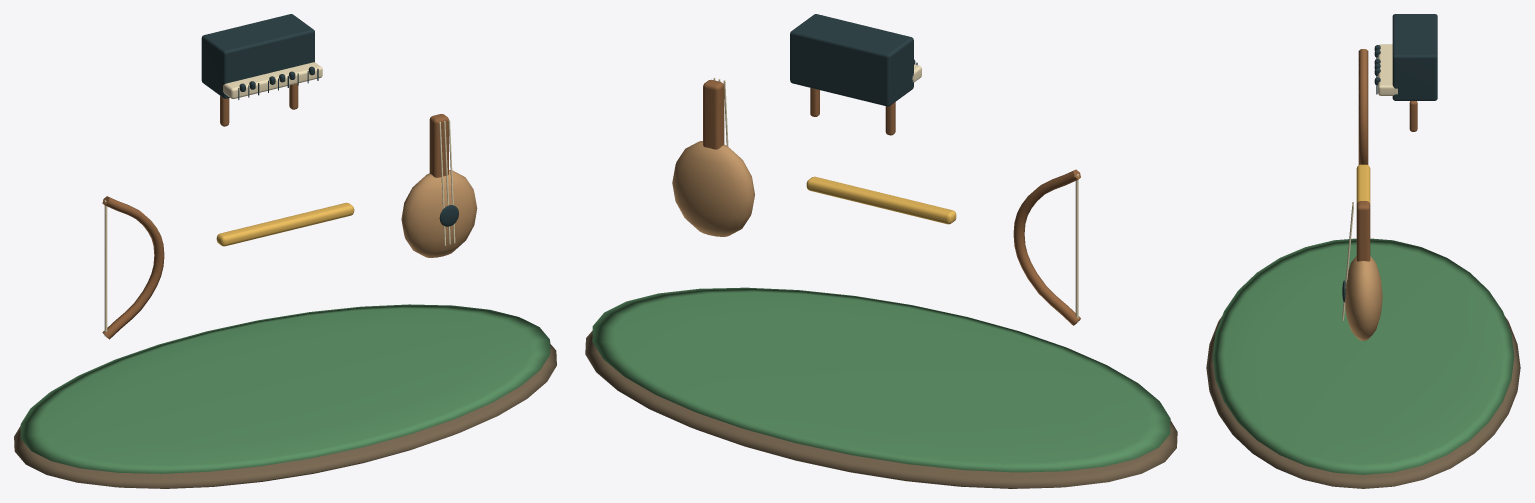
The model's file is complete-third-plucking-steel-piano.glb.
3 renders of one model, left to right at view 1: azimuth 30°, elevation 25°; view 2: azimuth 150°, elevation 25°; view 3: azimuth 270°, elevation 25°, orthographic. The views are drawn at different scales.
Parts seen in each view (by area): view 1: complete-third-plucking-steel-piano_surface_01, complete-third-plucking-steel-piano_surface_00, complete-third-plucking-steel-piano_surface_06, complete-third-plucking-steel-piano_surface_05, complete-third-plucking-steel-piano_surface_02, complete-third-plucking-steel-piano_surface_03, complete-third-plucking-steel-piano_surface_04; view 2: complete-third-plucking-steel-piano_surface_01, complete-third-plucking-steel-piano_surface_00, complete-third-plucking-steel-piano_surface_06, complete-third-plucking-steel-piano_surface_05, complete-third-plucking-steel-piano_surface_02, complete-third-plucking-steel-piano_surface_04, complete-third-plucking-steel-piano_surface_03; view 3: complete-third-plucking-steel-piano_surface_01, complete-third-plucking-steel-piano_surface_00, complete-third-plucking-steel-piano_surface_06, complete-third-plucking-steel-piano_surface_05, complete-third-plucking-steel-piano_surface_02, complete-third-plucking-steel-piano_surface_03, complete-third-plucking-steel-piano_surface_04.
Part boxes in pixels (x1,y1,x2,y2): complete-third-plucking-steel-piano_surface_01: (20,304,550,473); complete-third-plucking-steel-piano_surface_00: (14,344,556,488); complete-third-plucking-steel-piano_surface_06: (201,14,458,226); complete-third-plucking-steel-piano_surface_05: (401,170,477,257); complete-third-plucking-steel-piano_surface_02: (102,83,448,339); complete-third-plucking-steel-piano_surface_03: (104,62,455,336); complete-third-plucking-steel-piano_surface_04: (216,202,354,246); complete-third-plucking-steel-piano_surface_01: (592,287,1170,472); complete-third-plucking-steel-piano_surface_00: (585,330,1177,488); complete-third-plucking-steel-piano_surface_06: (790,14,917,106); complete-third-plucking-steel-piano_surface_05: (672,141,754,236); complete-third-plucking-steel-piano_surface_02: (703,79,1080,325); complete-third-plucking-steel-piano_surface_04: (806,176,956,224); complete-third-plucking-steel-piano_surface_03: (713,64,1078,322); complete-third-plucking-steel-piano_surface_01: (1212,238,1514,474); complete-third-plucking-steel-piano_surface_00: (1206,316,1520,488); complete-third-plucking-steel-piano_surface_06: (1342,14,1437,301); complete-third-plucking-steel-piano_surface_05: (1345,256,1382,340); complete-third-plucking-steel-piano_surface_02: (1356,49,1417,261); complete-third-plucking-steel-piano_surface_03: (1342,44,1397,320); complete-third-plucking-steel-piano_surface_04: (1356,164,1370,204).
Size of the model in its own units: 4.56 by 3.06 by 2.5.
